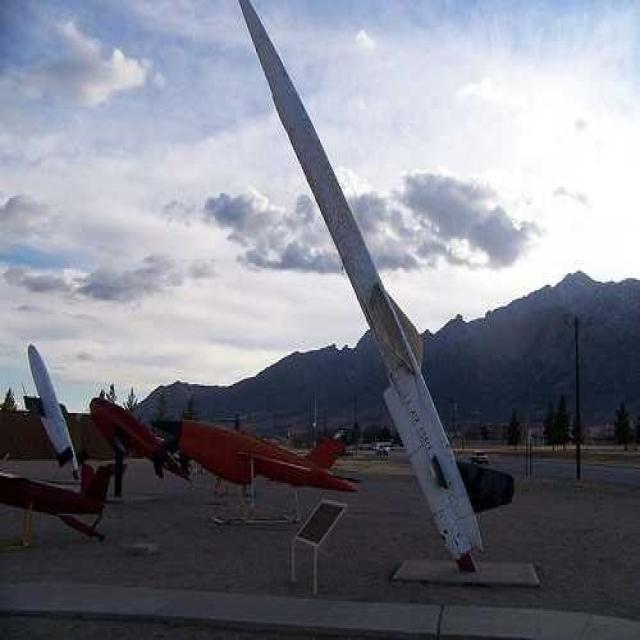missile: (233, 0, 489, 580)
